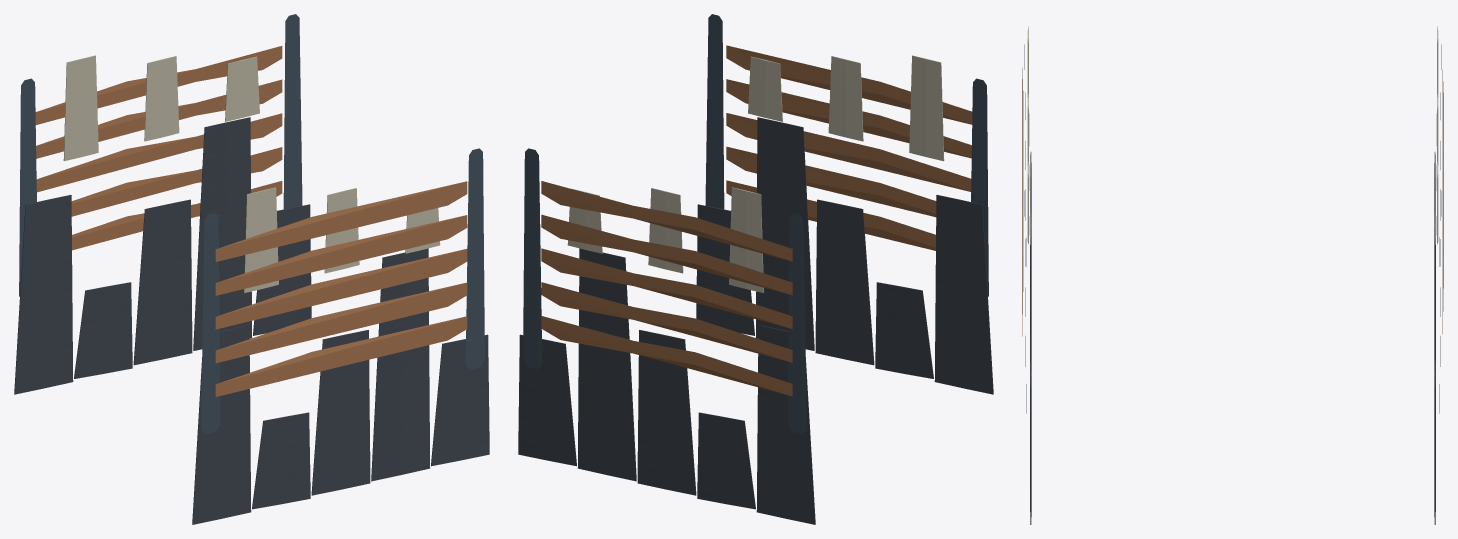
Rendered from emberline-ceramic-exhaust-1.glb.
3 renders of one model, left to right at view 1: azimuth 30°, elevation 25°; view 2: azimuth 150°, elevation 25°; view 3: azimuth 270°, elevation 25°, orthographic. The views are drawn at different scales.
Visible parts, largest first — view 1: emberline-ceramic-exhaust_LOD1; view 2: emberline-ceramic-exhaust_LOD1; view 3: emberline-ceramic-exhaust_LOD1.
Part boxes in pixels (box(x1,y1,x2,y2)): emberline-ceramic-exhaust_LOD1: box(14, 14, 489, 524); emberline-ceramic-exhaust_LOD1: box(518, 14, 993, 524); emberline-ceramic-exhaust_LOD1: box(1022, 26, 1443, 524).
Bounding box in the file's own units: 0.9218 × 0.9503 × 0.997.
Materials: 4 (4 with a texture image).
